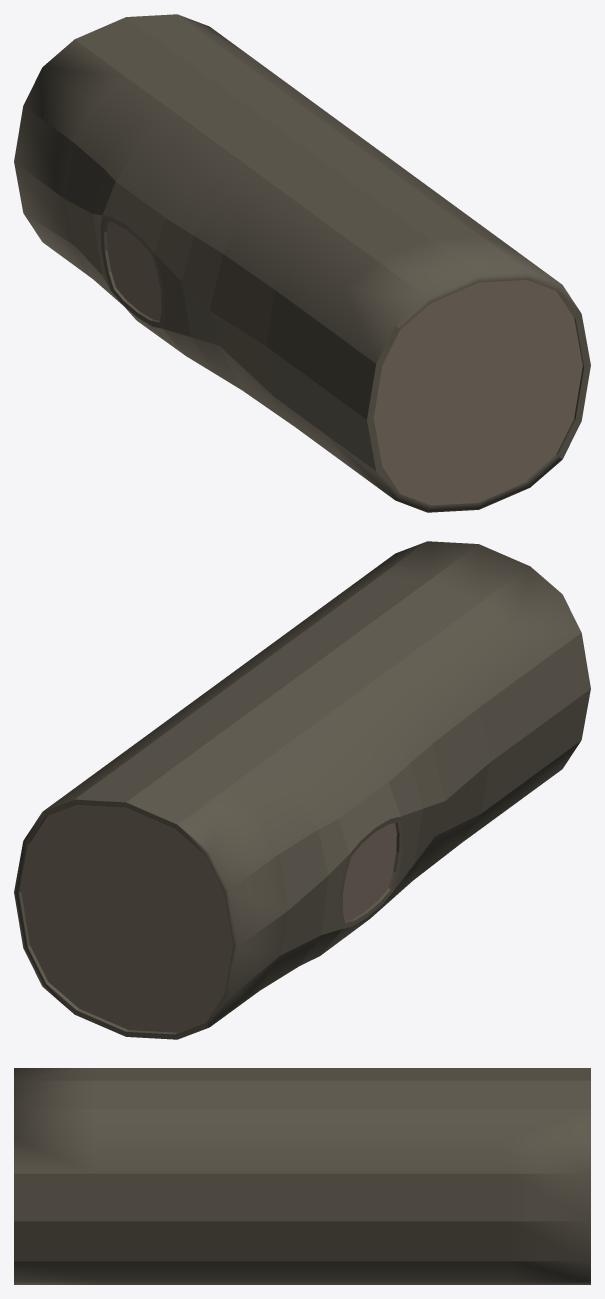
File: OakLog.fbx
The picture shows the model from 3 angles, top to bottom: view 1: azimuth 30°, elevation 25°; view 2: azimuth 150°, elevation 25°; view 3: azimuth 270°, elevation 25°; orthographic projection. The views are drawn at different scales.
Visible parts, largest first — view 1: Cube; view 2: Cube; view 3: Cube.
Part boxes in pixels (bbox=[...]): Cube: bbox=[14, 14, 590, 512]; Cube: bbox=[14, 541, 590, 1039]; Cube: bbox=[14, 1068, 590, 1284].
Bounding box in the file's own units: 271 × 257 × 700.
